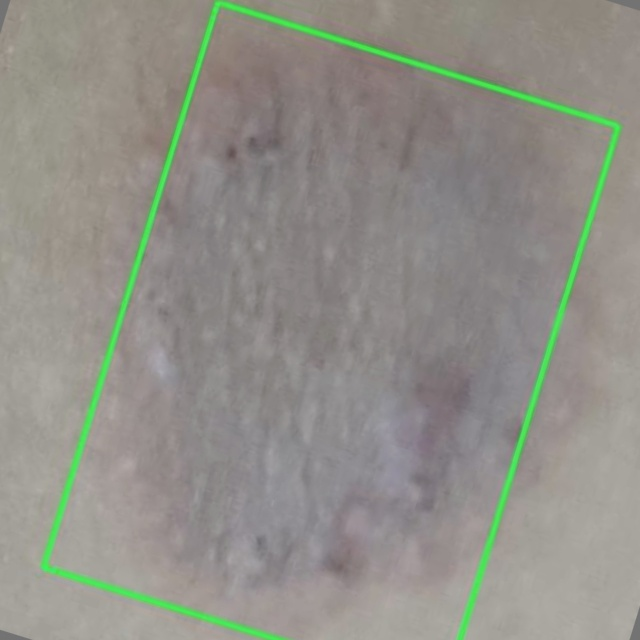Eczema: (42, 0, 618, 639)
